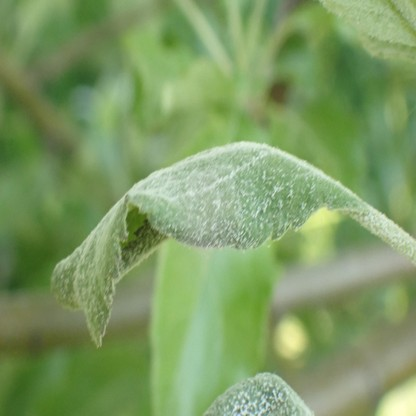powder: (52, 142, 366, 349), (319, 0, 416, 58), (203, 372, 312, 416)
